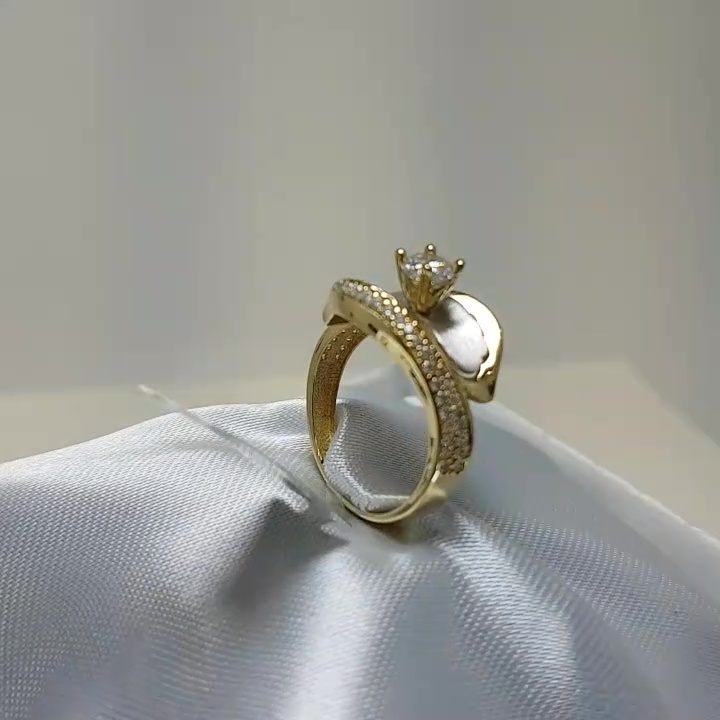Ring 6: (281, 231, 505, 536)
